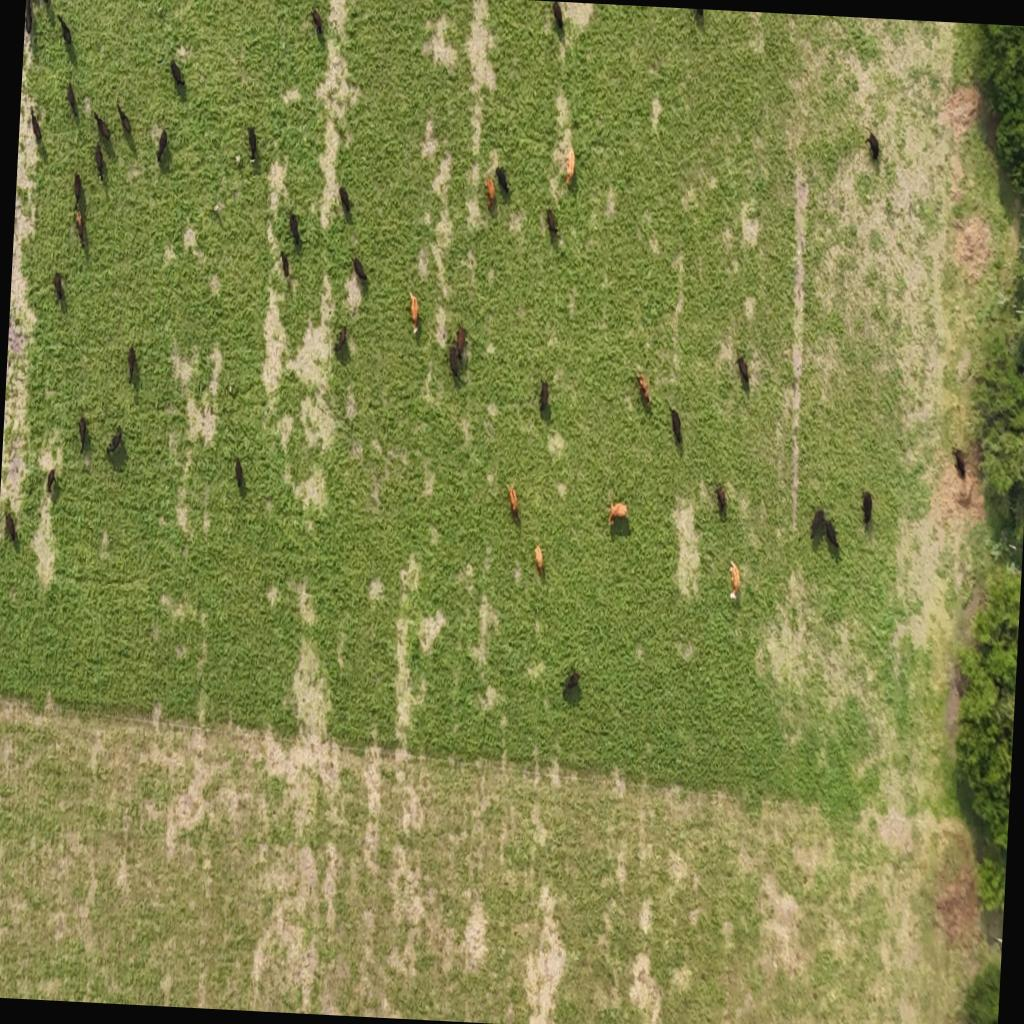cow: (949, 436, 969, 482), (542, 200, 562, 240), (506, 485, 524, 525), (106, 424, 126, 458), (824, 516, 842, 552), (564, 144, 578, 190), (669, 404, 685, 444), (562, 667, 582, 699), (64, 81, 80, 120), (608, 500, 630, 528), (408, 292, 422, 336), (168, 56, 186, 90), (57, 14, 74, 50), (52, 272, 68, 310), (3, 510, 20, 545), (92, 111, 112, 140), (635, 372, 652, 406), (810, 506, 827, 540), (864, 130, 882, 162), (450, 344, 466, 380), (76, 415, 90, 456), (286, 212, 301, 250), (538, 378, 552, 417), (73, 208, 86, 250), (728, 561, 742, 600), (734, 354, 750, 388), (860, 490, 874, 528), (232, 456, 246, 494), (550, 2, 566, 34), (495, 166, 512, 196), (94, 141, 106, 182), (484, 176, 498, 211), (28, 105, 42, 140), (334, 324, 349, 356), (125, 344, 137, 384), (116, 102, 131, 134), (714, 482, 728, 516), (454, 324, 468, 358), (156, 127, 168, 165), (338, 184, 352, 216), (352, 256, 368, 284), (246, 126, 258, 162), (310, 8, 324, 38), (279, 250, 292, 280), (533, 544, 545, 575), (24, 2, 34, 39), (74, 172, 84, 206), (35, 0, 56, 16), (46, 468, 56, 496), (690, 9, 704, 26)
